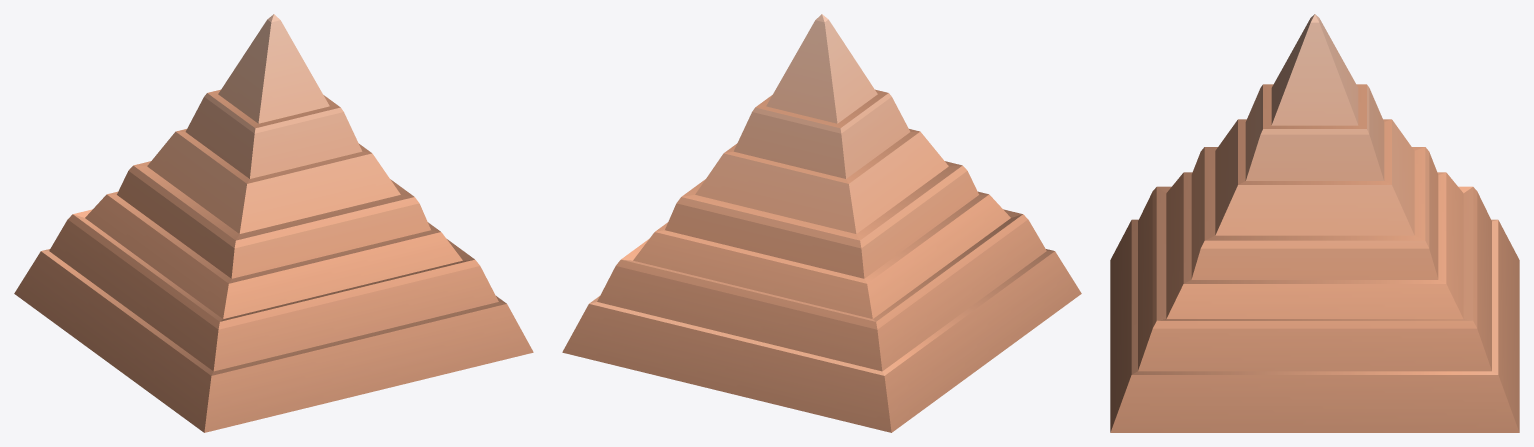
File: PiramideProp.fbx
3 renders of one model, left to right at view 1: azimuth 30°, elevation 25°; view 2: azimuth 150°, elevation 25°; view 3: azimuth 270°, elevation 25°, orthographic. The views are drawn at different scales.
Visible parts, largest first — view 1: Piramide; view 2: Piramide; view 3: Piramide.
Boxes of the visible parts, left/top/right/bottom form: Piramide: left=14, top=14, right=533, bottom=432; Piramide: left=562, top=14, right=1081, bottom=432; Piramide: left=1110, top=14, right=1519, bottom=432.
Size of the model in its own units: 674 by 605 by 674.
